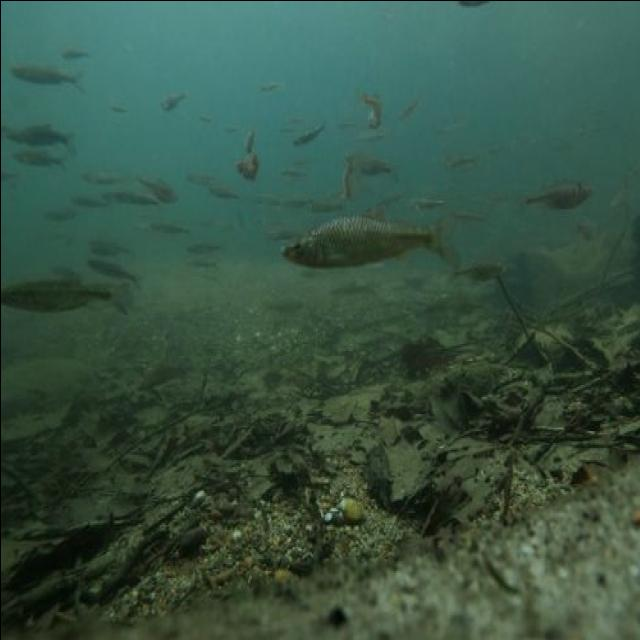Cakil Baligi: (273, 214, 459, 272), (0, 269, 135, 315)
